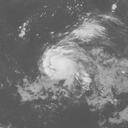cyclone: (39, 39, 94, 87)
